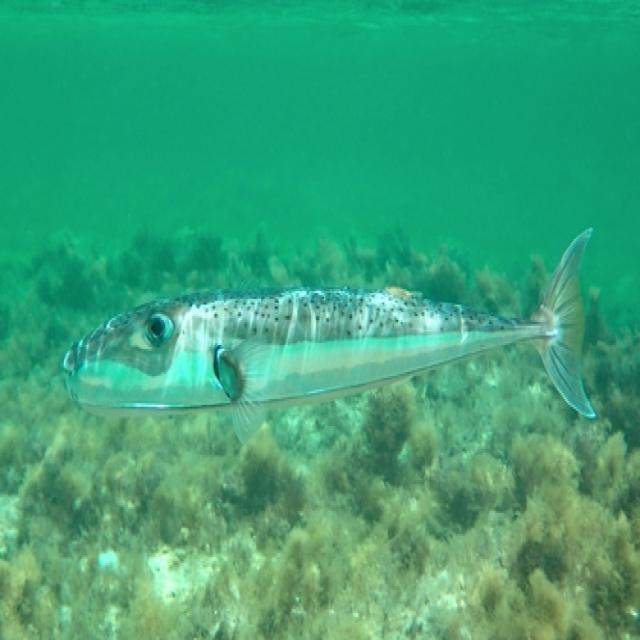Balik: (63, 230, 595, 441)
